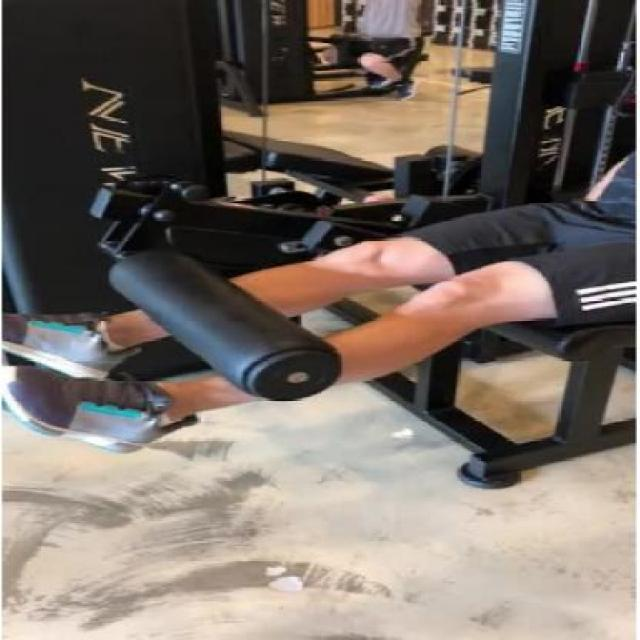leg extension: (4, 0, 640, 501)
